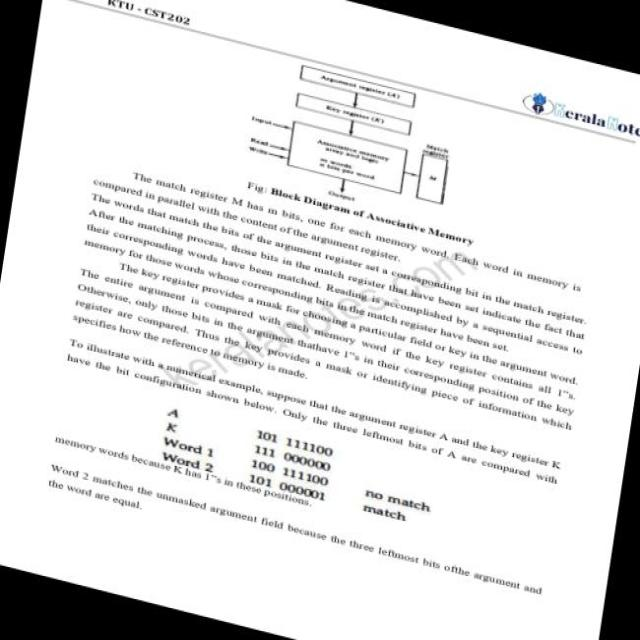Figure Detection - v3 Dataset Version2: (236, 48, 494, 235)
